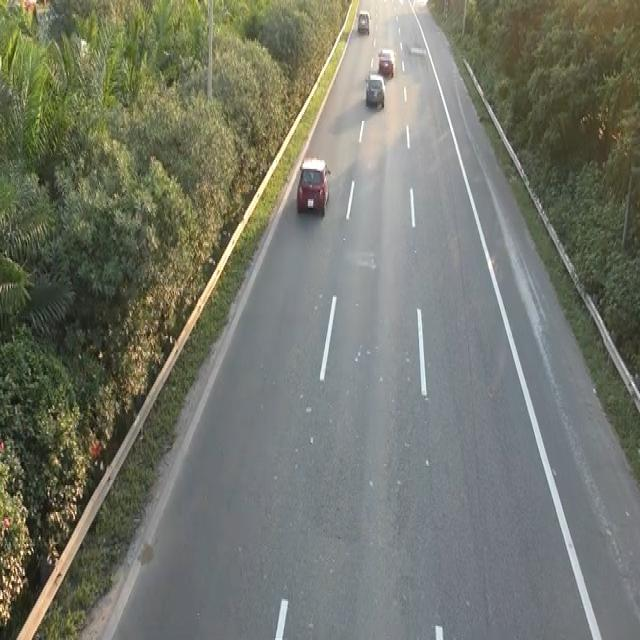bus: (294, 153, 332, 224), (364, 71, 385, 109)
